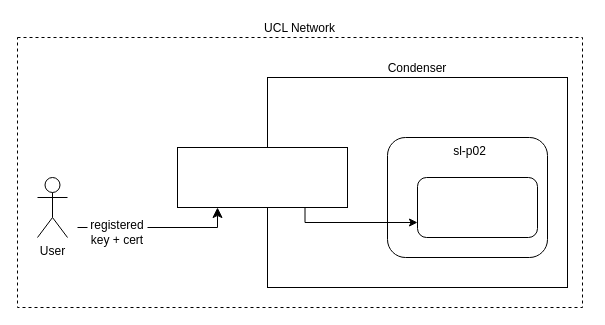
The diagram is 605 pixels wide and 325 high, and some of its shapes have lost their labels. The centre of each missing label's shape, as x and y in pixels:
SSH bastion ssh.condenser.arc.ucl.ac.uk: the point at 262,177
VM 10.134.X.XXX: the point at 477,207
